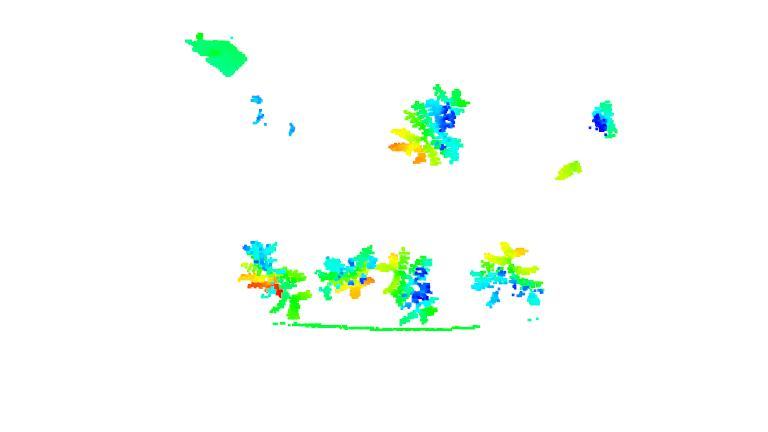chickpea: (388, 82, 470, 166), (468, 241, 551, 312), (240, 240, 312, 321), (553, 99, 618, 183), (377, 245, 441, 327), (313, 245, 381, 306)
